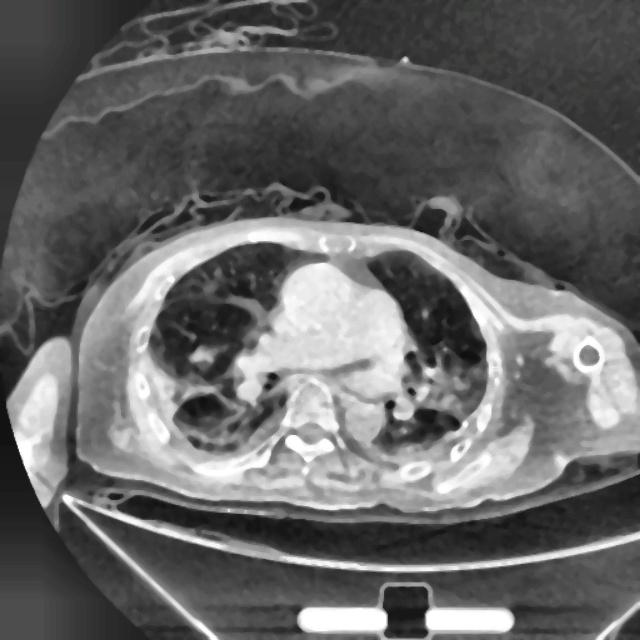covid: (67, 190, 638, 526)
